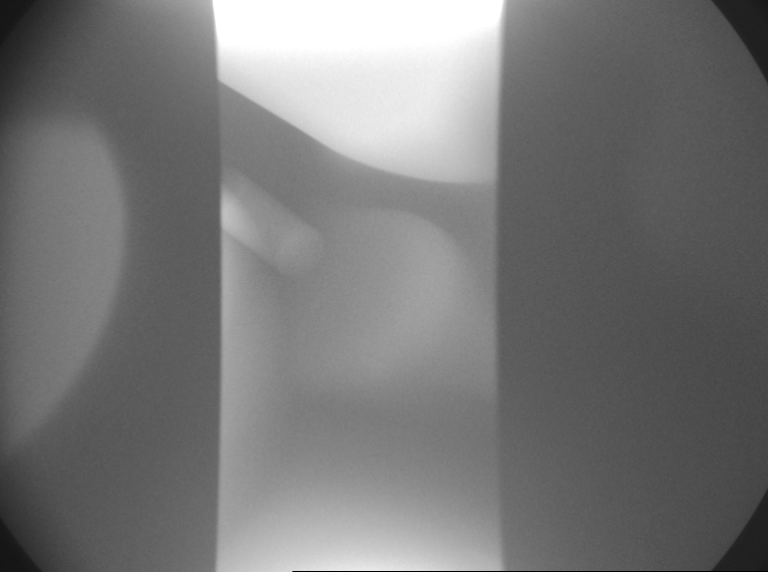defect: (355, 348, 394, 382)
